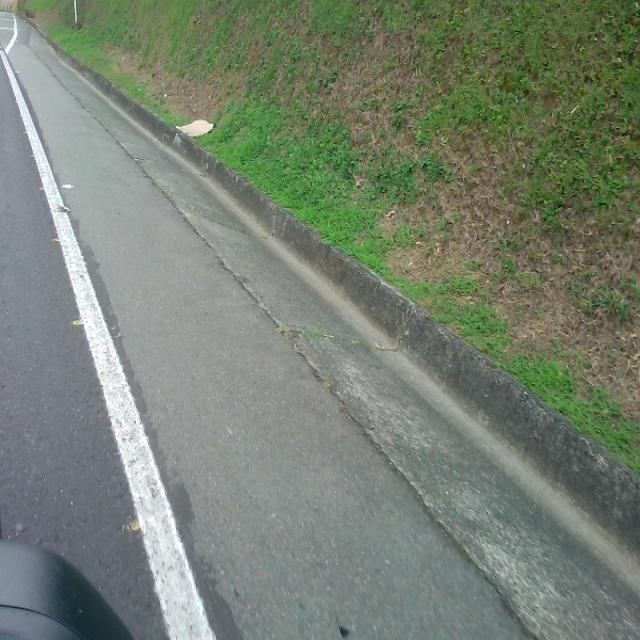DITCH: (2, 8, 638, 638)
